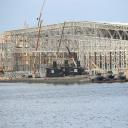submarine: (1, 68, 104, 85), (62, 67, 116, 84), (74, 68, 127, 84)
